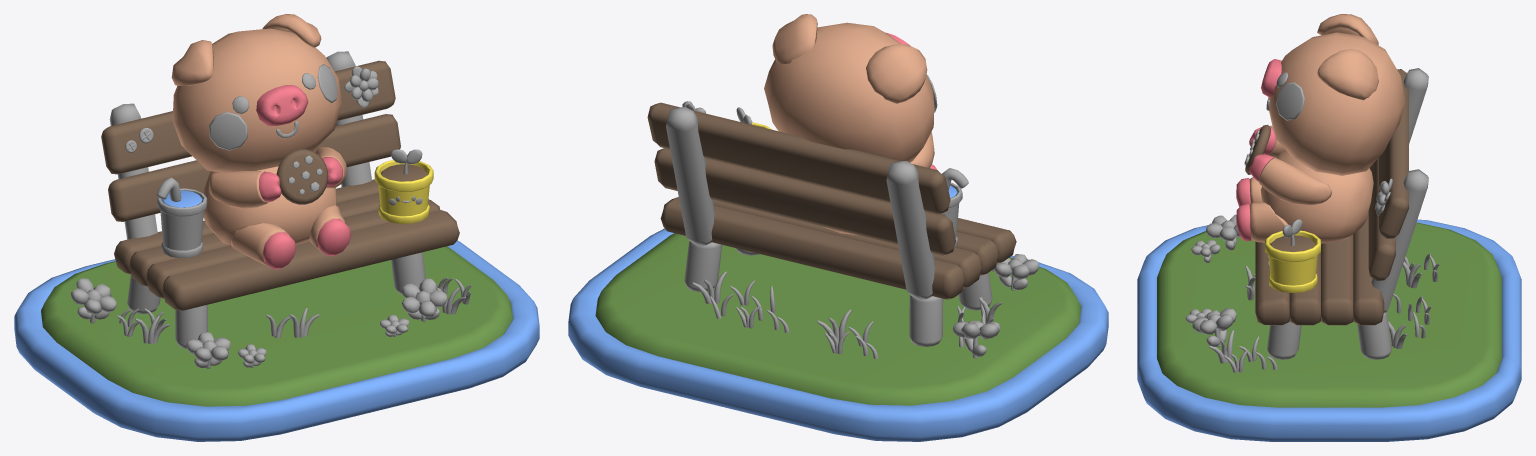
File: PigPicnic.fbx
3 views of the same model, side by side, from view 1: azimuth 30°, elevation 25°; view 2: azimuth 150°, elevation 25°; view 3: azimuth 270°, elevation 25° (orthographic). The views are drawn at different scales.
Parts seen in each view (by area): view 1: S_PigPicnic, M_PigPicnic, D_PigPicnic3, D_PigPicnic16, D_PigPicnic72, D_PigPicnic38, D_PigPicnic31, D_PigPicnic43; view 2: S_PigPicnic, M_PigPicnic, D_PigPicnic38, D_PigPicnic72; view 3: S_PigPicnic, M_PigPicnic, D_PigPicnic43, D_PigPicnic3, D_PigPicnic38, D_PigPicnic36.
Part boxes in pixels (bbox=[...]): S_PigPicnic: bbox=[14, 14, 539, 441]; M_PigPicnic: bbox=[101, 51, 459, 310]; D_PigPicnic3: bbox=[401, 278, 447, 317]; D_PigPicnic16: bbox=[209, 112, 247, 150]; D_PigPicnic72: bbox=[71, 278, 116, 314]; D_PigPicnic38: bbox=[186, 332, 230, 362]; D_PigPicnic31: bbox=[349, 68, 378, 101]; D_PigPicnic43: bbox=[317, 64, 337, 102]; S_PigPicnic: bbox=[568, 14, 1108, 441]; M_PigPicnic: bbox=[647, 102, 1016, 299]; D_PigPicnic38: bbox=[994, 254, 1038, 279]; D_PigPicnic72: bbox=[952, 320, 1000, 339]; S_PigPicnic: bbox=[1137, 14, 1521, 441]; M_PigPicnic: bbox=[1245, 68, 1428, 325]; D_PigPicnic43: bbox=[1276, 82, 1304, 120]; D_PigPicnic3: bbox=[1192, 308, 1236, 334]; D_PigPicnic38: bbox=[1206, 214, 1239, 240]; D_PigPicnic36: bbox=[1191, 240, 1220, 256].
Size of the model in its own units: 685 by 479 by 548.
